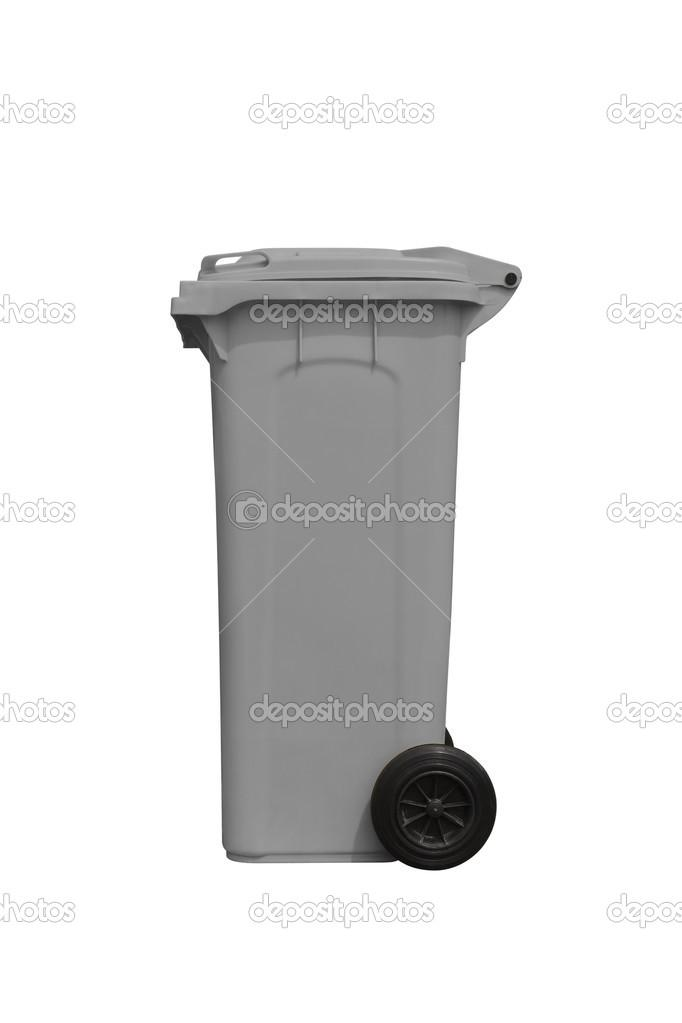garbage container: (161, 236, 533, 875)
